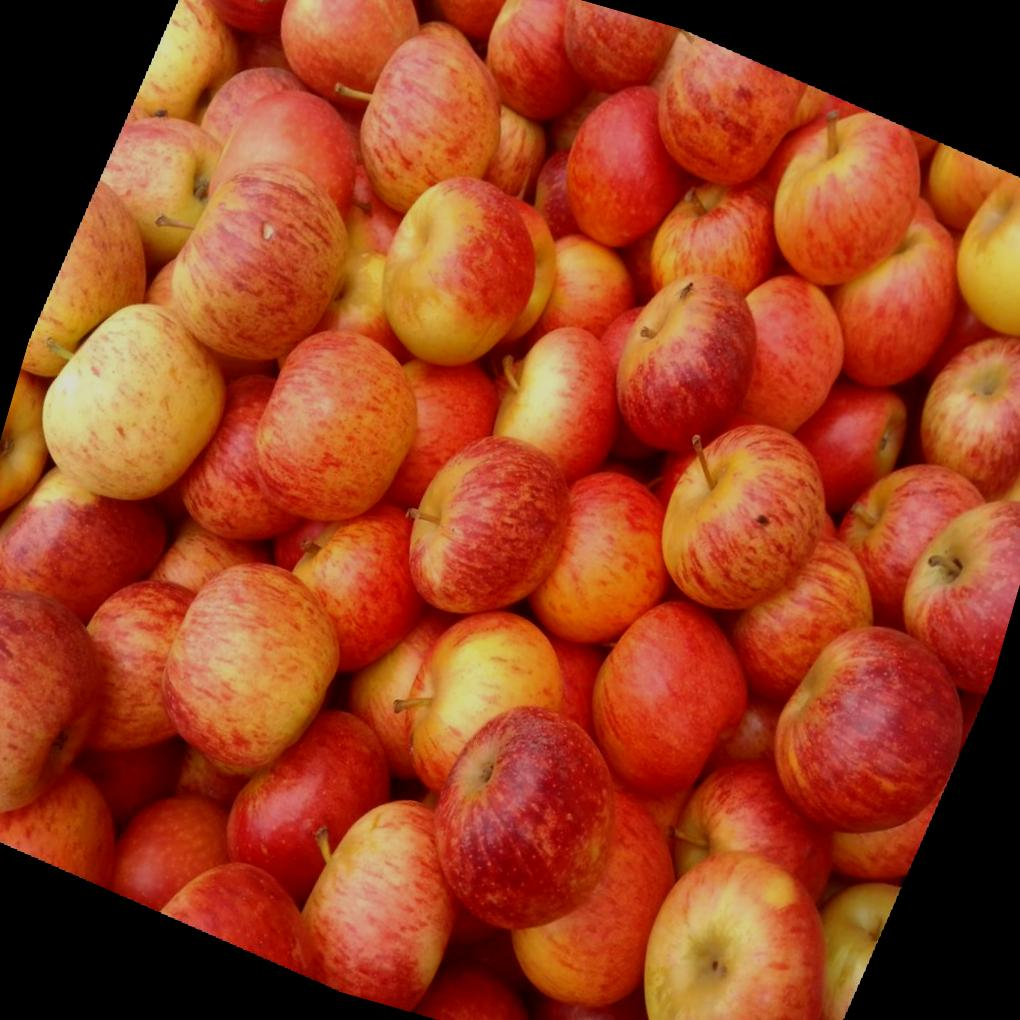FreshGuava: (0, 0, 1020, 966)
